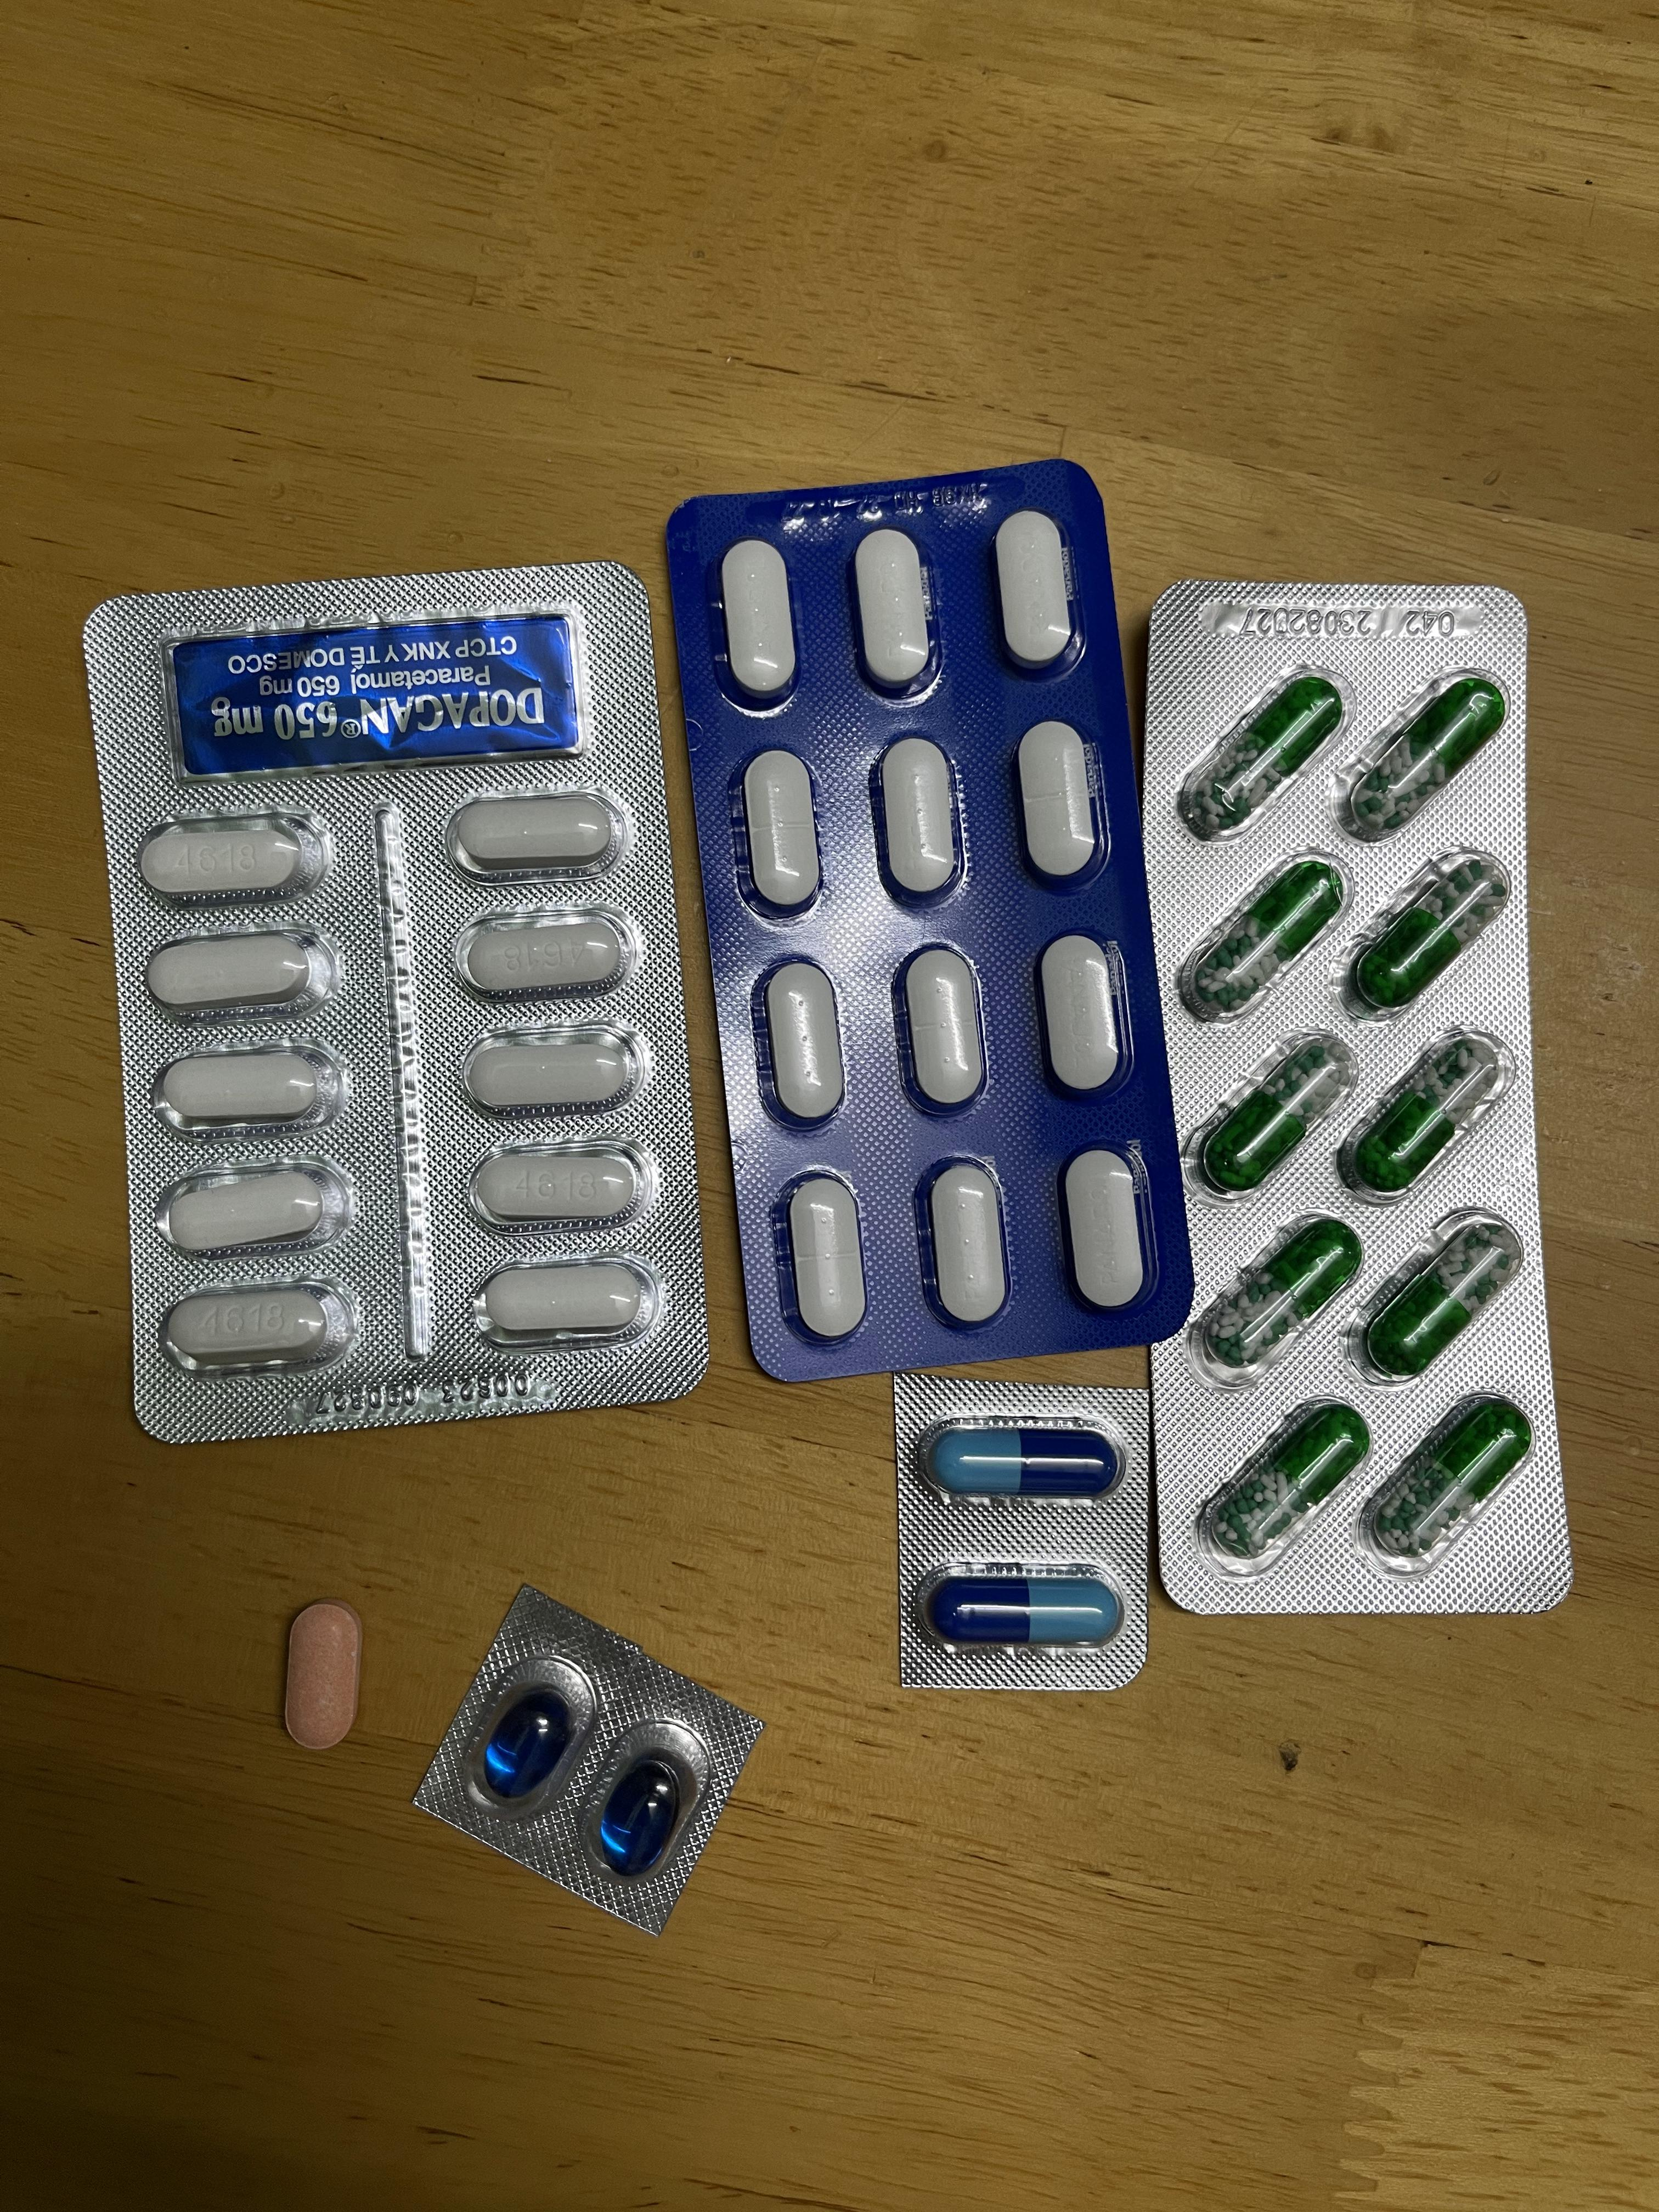Lincomyxin_500mg: (596, 1756, 685, 1874), (483, 1693, 572, 1797)
Loratadine_10mg: (284, 1601, 364, 1752)
Paracetamol_350mg: (1037, 934, 1129, 1103), (897, 944, 988, 1113), (1058, 1144, 1148, 1310), (1016, 721, 1103, 890), (762, 960, 847, 1129), (877, 737, 962, 904), (784, 1174, 868, 1345), (852, 528, 934, 695), (993, 510, 1077, 672), (742, 751, 823, 914), (929, 1165, 1009, 1325), (720, 540, 798, 700)
Paracetamol_500mg: (153, 1160, 356, 1258), (160, 1278, 361, 1376), (138, 810, 336, 902), (150, 1040, 350, 1130), (145, 925, 343, 1015), (469, 1254, 662, 1346), (455, 1026, 645, 1116), (451, 909, 636, 1001), (469, 1139, 655, 1230), (444, 791, 633, 878)
Paracetamol_650mg: (1331, 1028, 1516, 1211), (1183, 1212, 1354, 1390), (1187, 1033, 1359, 1207), (1178, 850, 1349, 1024), (1175, 665, 1340, 840), (1338, 672, 1509, 840), (1342, 848, 1509, 1017), (1371, 1397, 1530, 1555), (1211, 1406, 1368, 1561), (1364, 1221, 1520, 1374)
pill: (932, 1578, 1119, 1637), (931, 1437, 1117, 1494)
